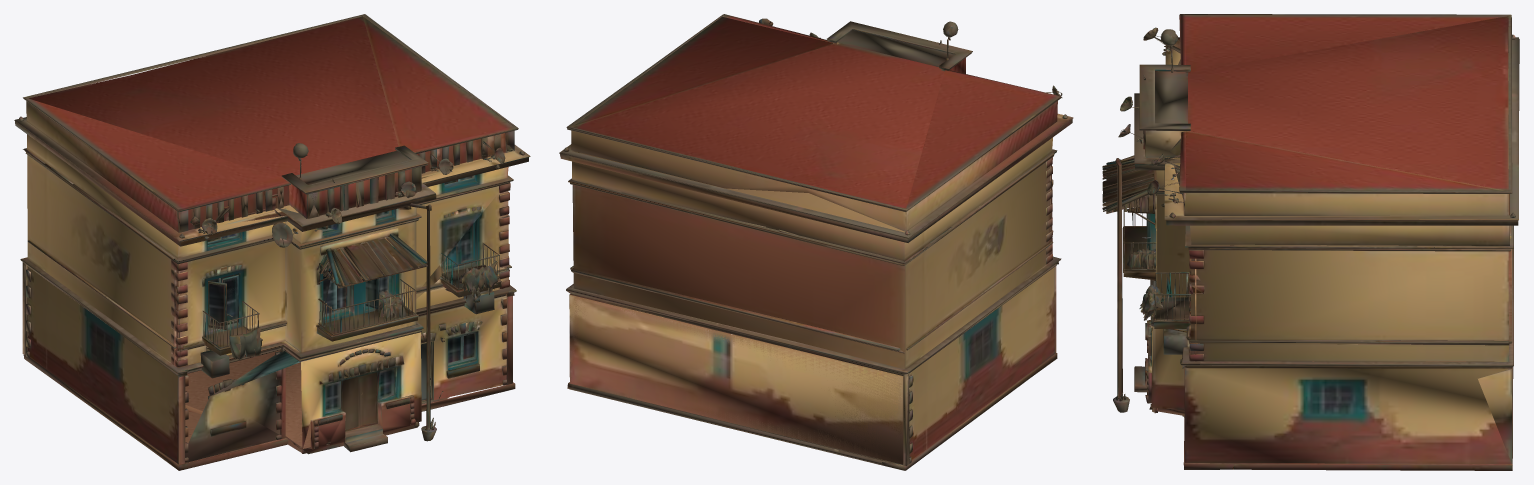
3 renders of one model, left to right at view 1: azimuth 30°, elevation 25°; view 2: azimuth 150°, elevation 25°; view 3: azimuth 270°, elevation 25°, orthographic. The views are drawn at different scales.
Size of the model in its own units: 0.9517 by 0.791 by 0.918.
Materials: 1 (1 with a texture image).
